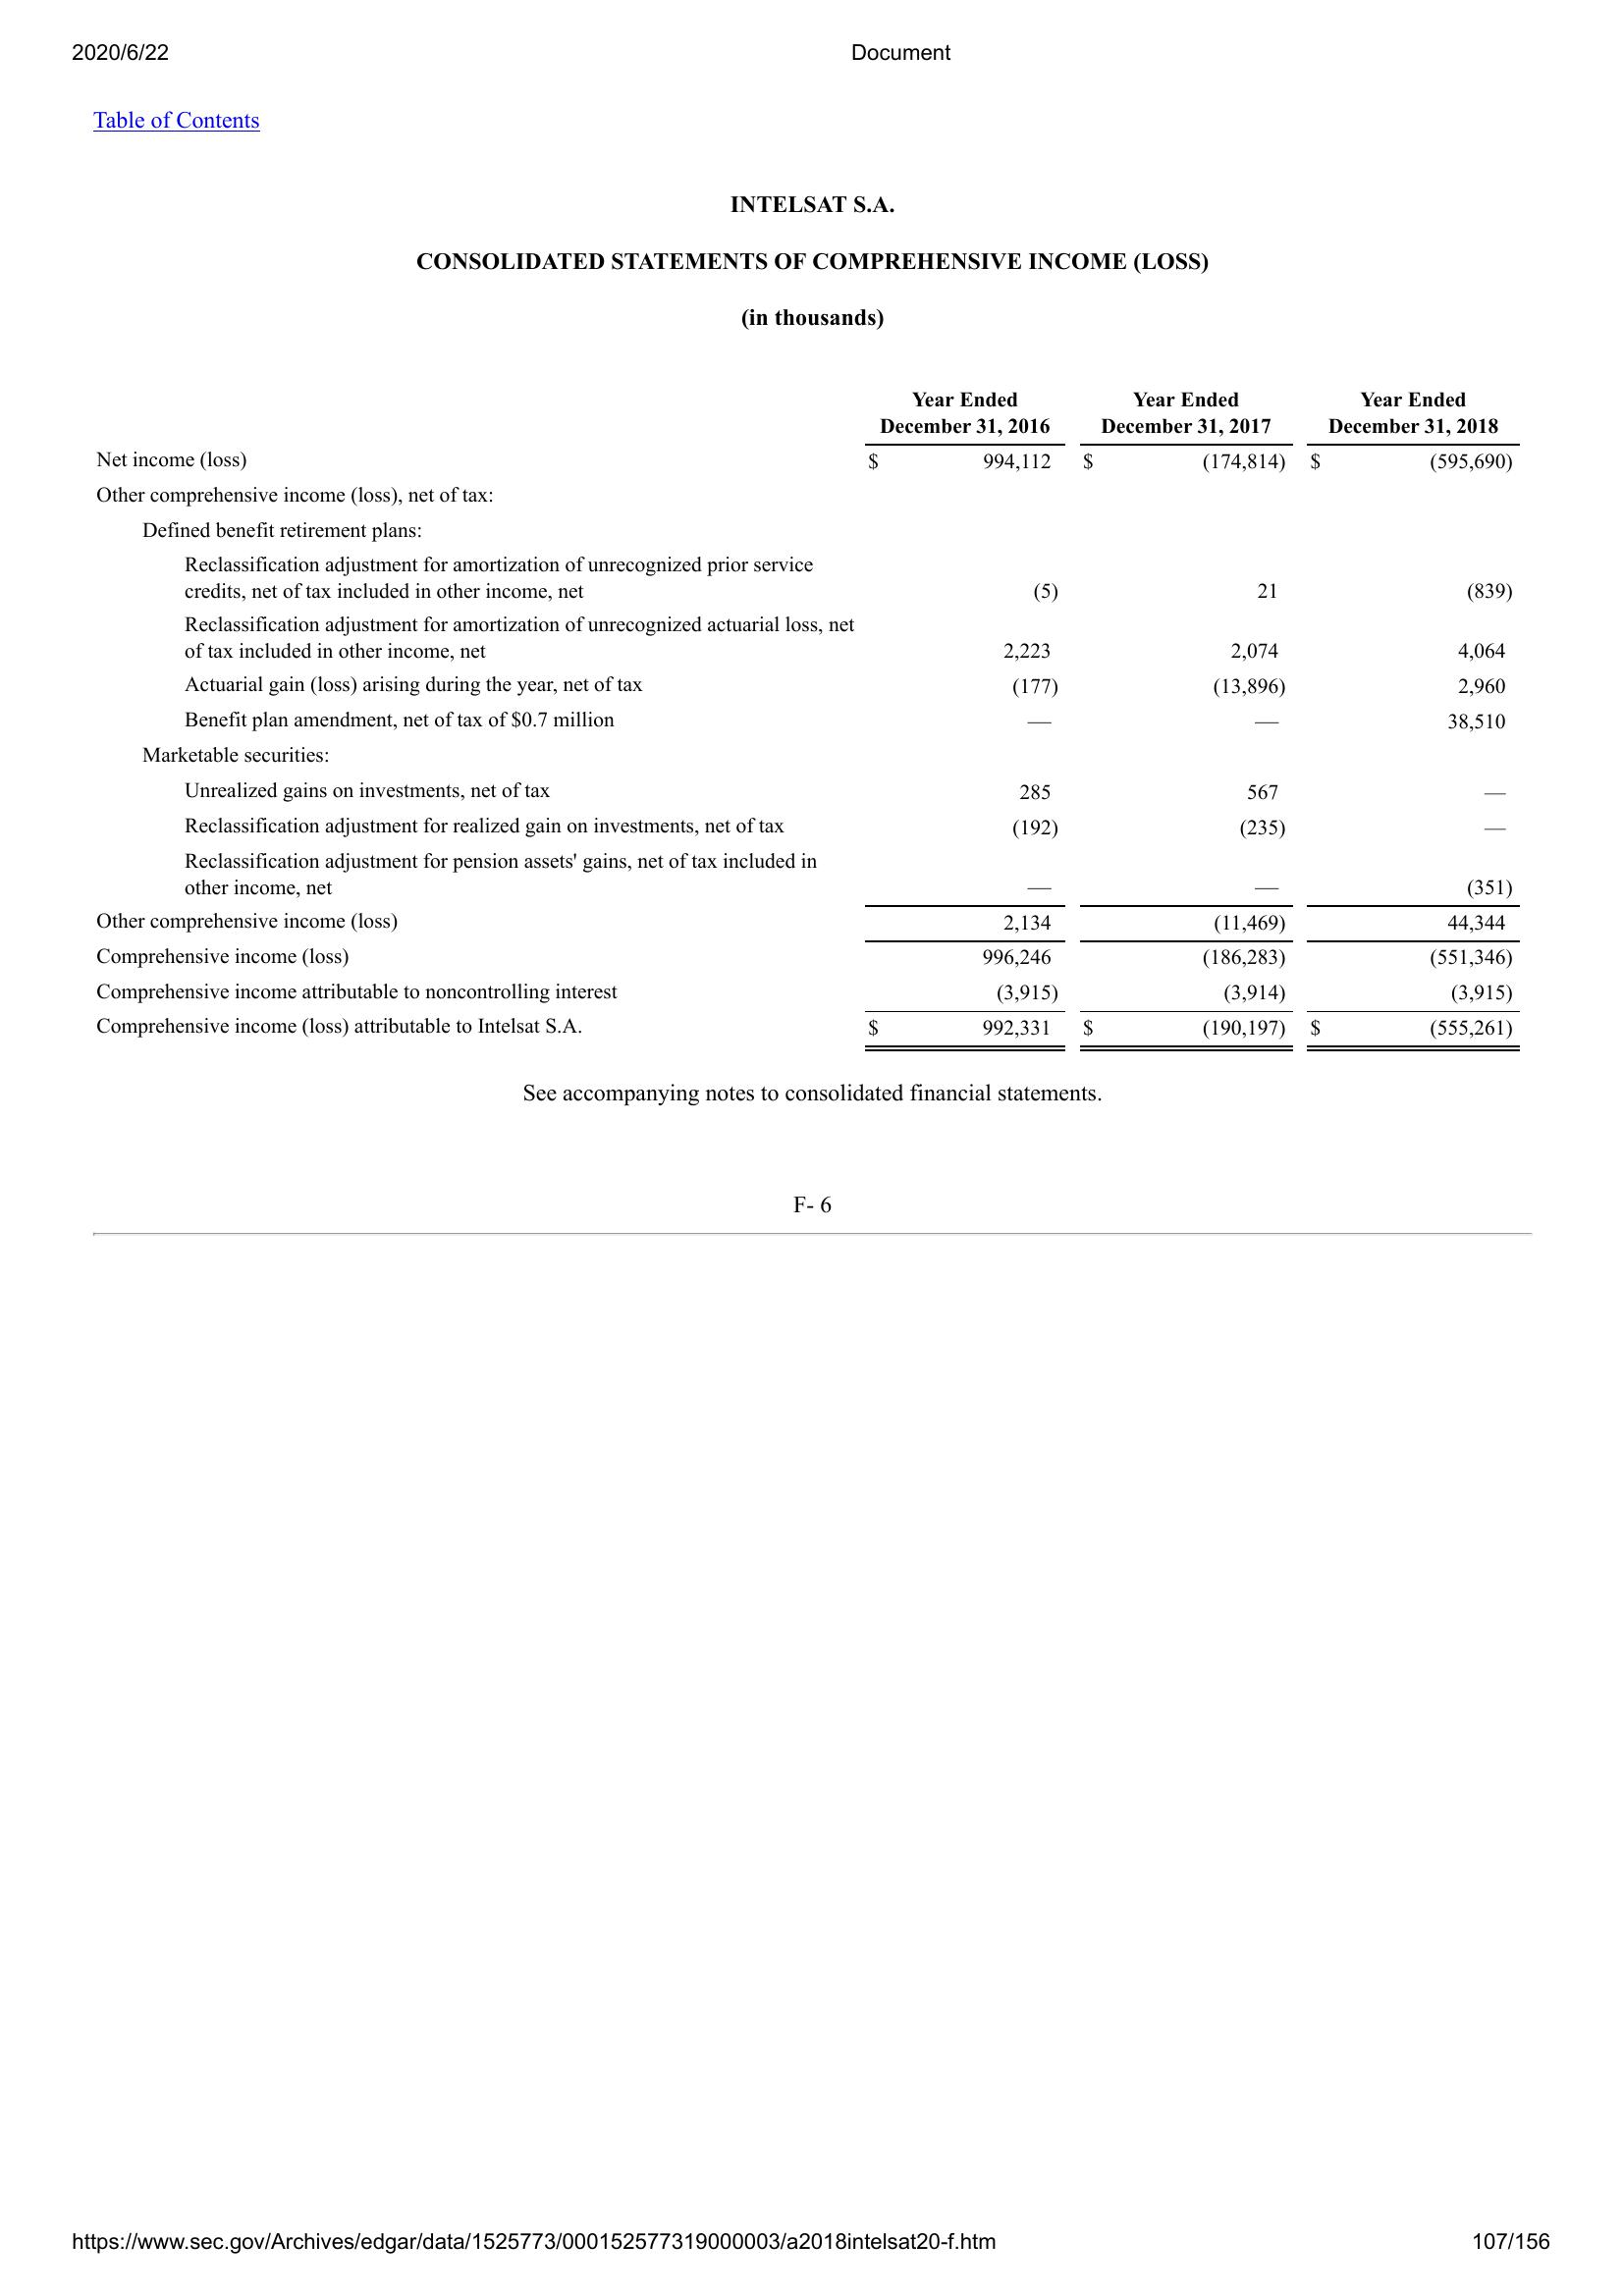table: (70, 381, 1539, 1062)
